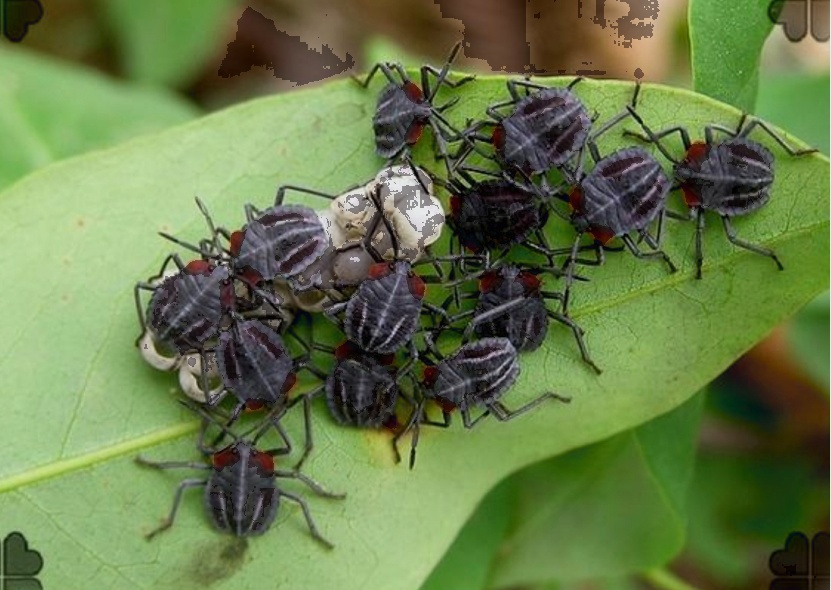Stink_Bug: (659, 119, 805, 222), (569, 145, 703, 256), (169, 417, 310, 522), (452, 255, 583, 363), (483, 77, 626, 162), (319, 157, 440, 251), (314, 339, 421, 439), (445, 160, 569, 245), (150, 247, 237, 352), (325, 256, 431, 340), (439, 337, 543, 421), (227, 201, 339, 268), (380, 52, 458, 140), (218, 314, 297, 395)
